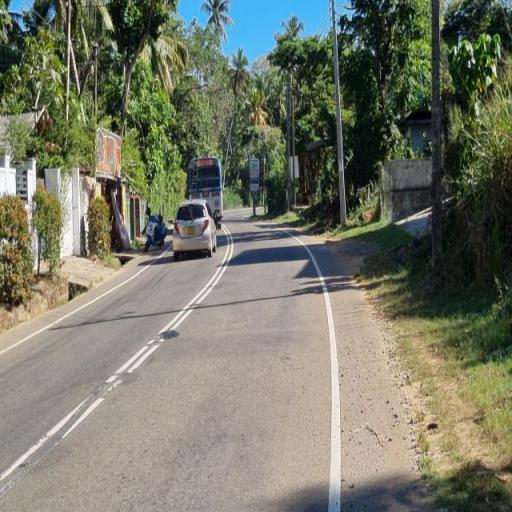double_white_line: (106, 226, 234, 392)
